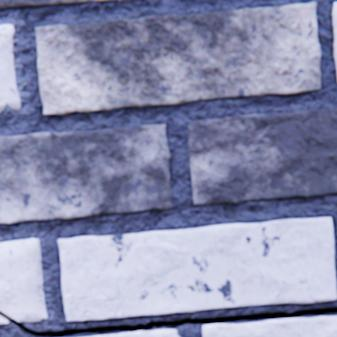brick: (36, 3, 320, 116), (59, 218, 336, 320), (0, 125, 172, 224), (188, 110, 336, 205), (202, 316, 336, 336), (0, 0, 140, 11), (93, 329, 183, 336), (332, 4, 336, 76)
broken_brick: (0, 239, 48, 321), (0, 26, 21, 113), (0, 316, 9, 324)
crack: (0, 307, 336, 336)
